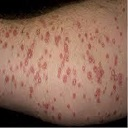Psoriasis: (8, 27, 119, 106)
